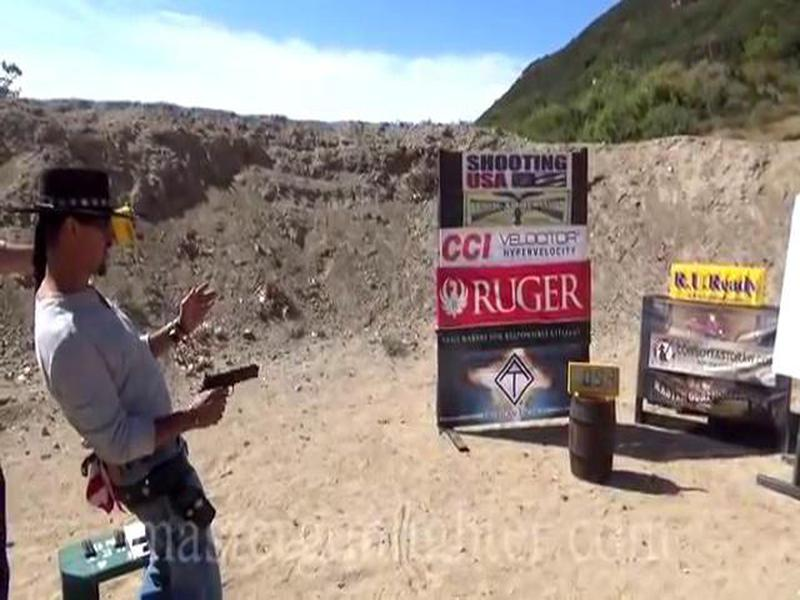Pistola: (190, 354, 272, 424)
